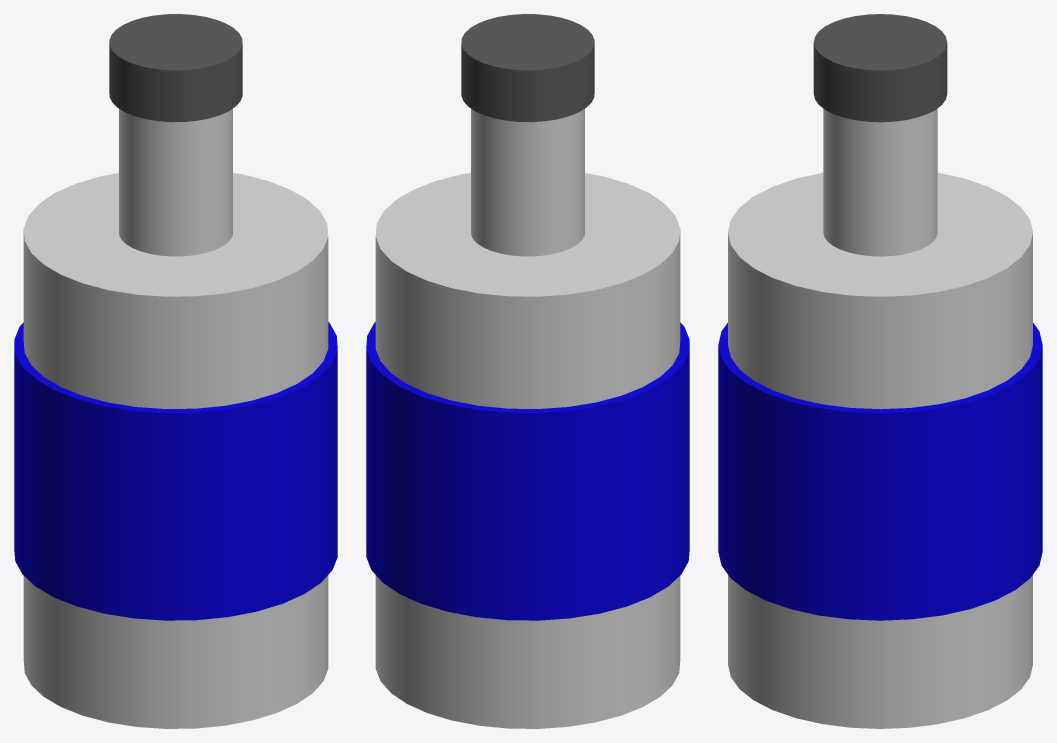
Rendered from blue_paint.fbx.
3 renders of one model, left to right at view 1: azimuth 30°, elevation 25°; view 2: azimuth 150°, elevation 25°; view 3: azimuth 270°, elevation 25°, orthographic.
Parts seen in each view (by area): view 1: Bottle_Body, Paint_Label, Bottle_Neck, Bottle_Cap; view 2: Bottle_Body, Paint_Label, Bottle_Neck, Bottle_Cap; view 3: Bottle_Body, Paint_Label, Bottle_Neck, Bottle_Cap.
Part boxes in pixels (bbox=[...]): Bottle_Body: bbox=[23, 173, 328, 728]; Paint_Label: bbox=[14, 322, 337, 620]; Bottle_Neck: bbox=[119, 108, 232, 256]; Bottle_Cap: bbox=[109, 14, 242, 122]; Bottle_Body: bbox=[375, 173, 680, 728]; Paint_Label: bbox=[366, 322, 689, 620]; Bottle_Neck: bbox=[471, 108, 584, 256]; Bottle_Cap: bbox=[461, 14, 594, 122]; Bottle_Body: bbox=[728, 172, 1032, 728]; Paint_Label: bbox=[718, 323, 1042, 620]; Bottle_Neck: bbox=[823, 108, 937, 256]; Bottle_Cap: bbox=[813, 14, 947, 122].
Size of the model in its own units: 170 by 360 by 170.
